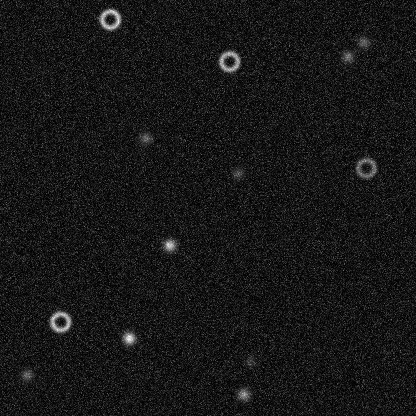Ring: (217, 49, 241, 73), (353, 155, 377, 179), (48, 309, 72, 333), (97, 7, 121, 31)
Spot: (18, 366, 34, 382), (235, 386, 251, 402), (229, 165, 245, 181), (137, 130, 153, 146), (339, 48, 355, 64), (355, 34, 371, 50), (120, 330, 136, 346), (161, 237, 177, 253), (242, 353, 258, 369)
